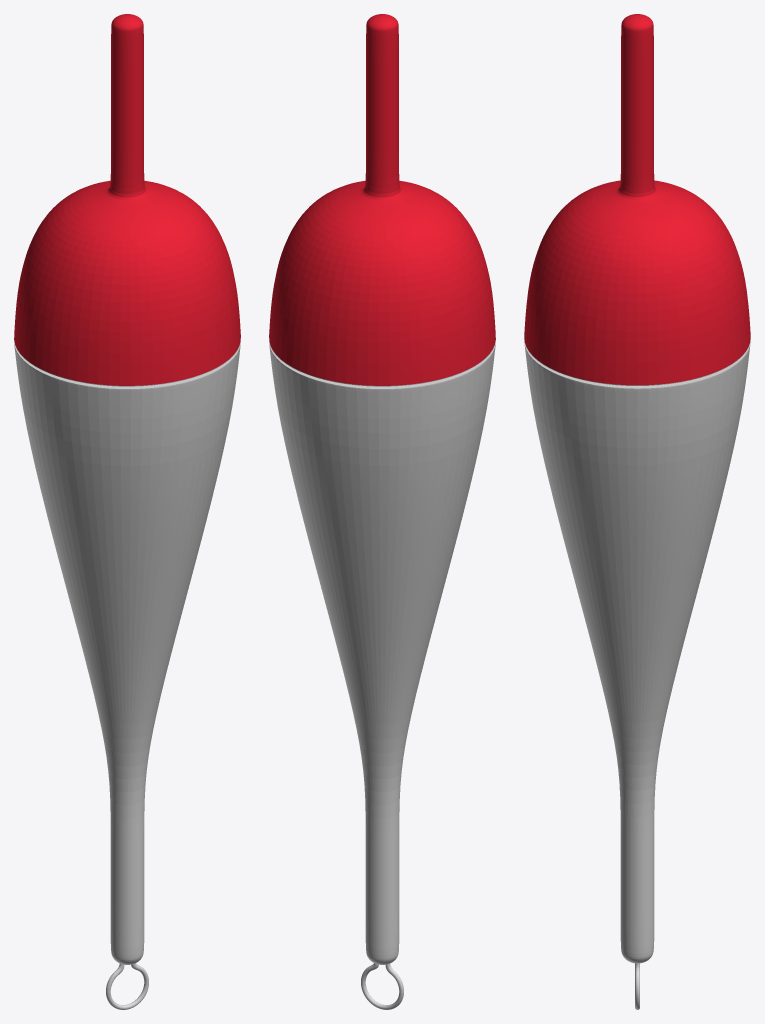
The model's file is float_01.fbx.
3 views of the same model, side by side, from view 1: azimuth 30°, elevation 25°; view 2: azimuth 150°, elevation 25°; view 3: azimuth 270°, elevation 25° (orthographic).
Parts seen in each view (by area): view 1: Float_01; view 2: Float_01; view 3: Float_01.
Boxes of the visible parts, x1,y1,x2,y2 form: Float_01: (14,14,240,1009); Float_01: (269,14,495,1009); Float_01: (524,14,750,1009).
Size of the model in its own units: 58.32 by 282 by 58.32.
